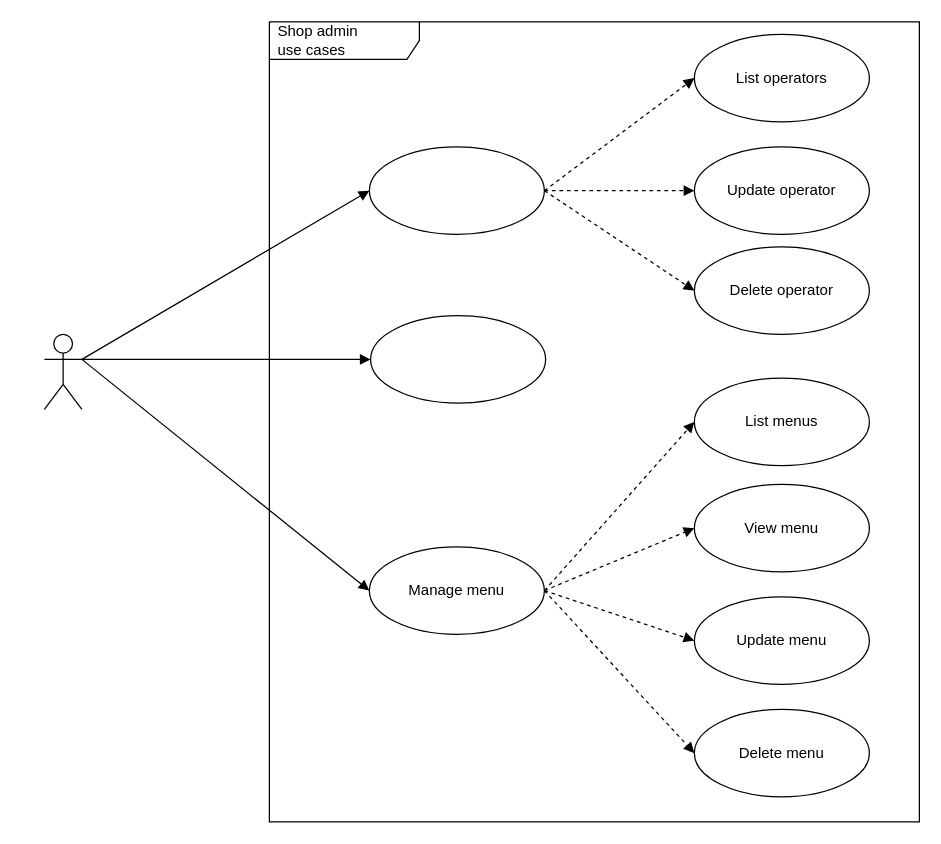
The diagram is 941 pixels wide and 844 high, and some of its shapes have lost their labels. Each missing label, with the box of its shape:
Manage operators: (368, 146, 544, 234)
Shiop admin: (43, 333, 82, 409)
Update queue config: (369, 314, 546, 403)
